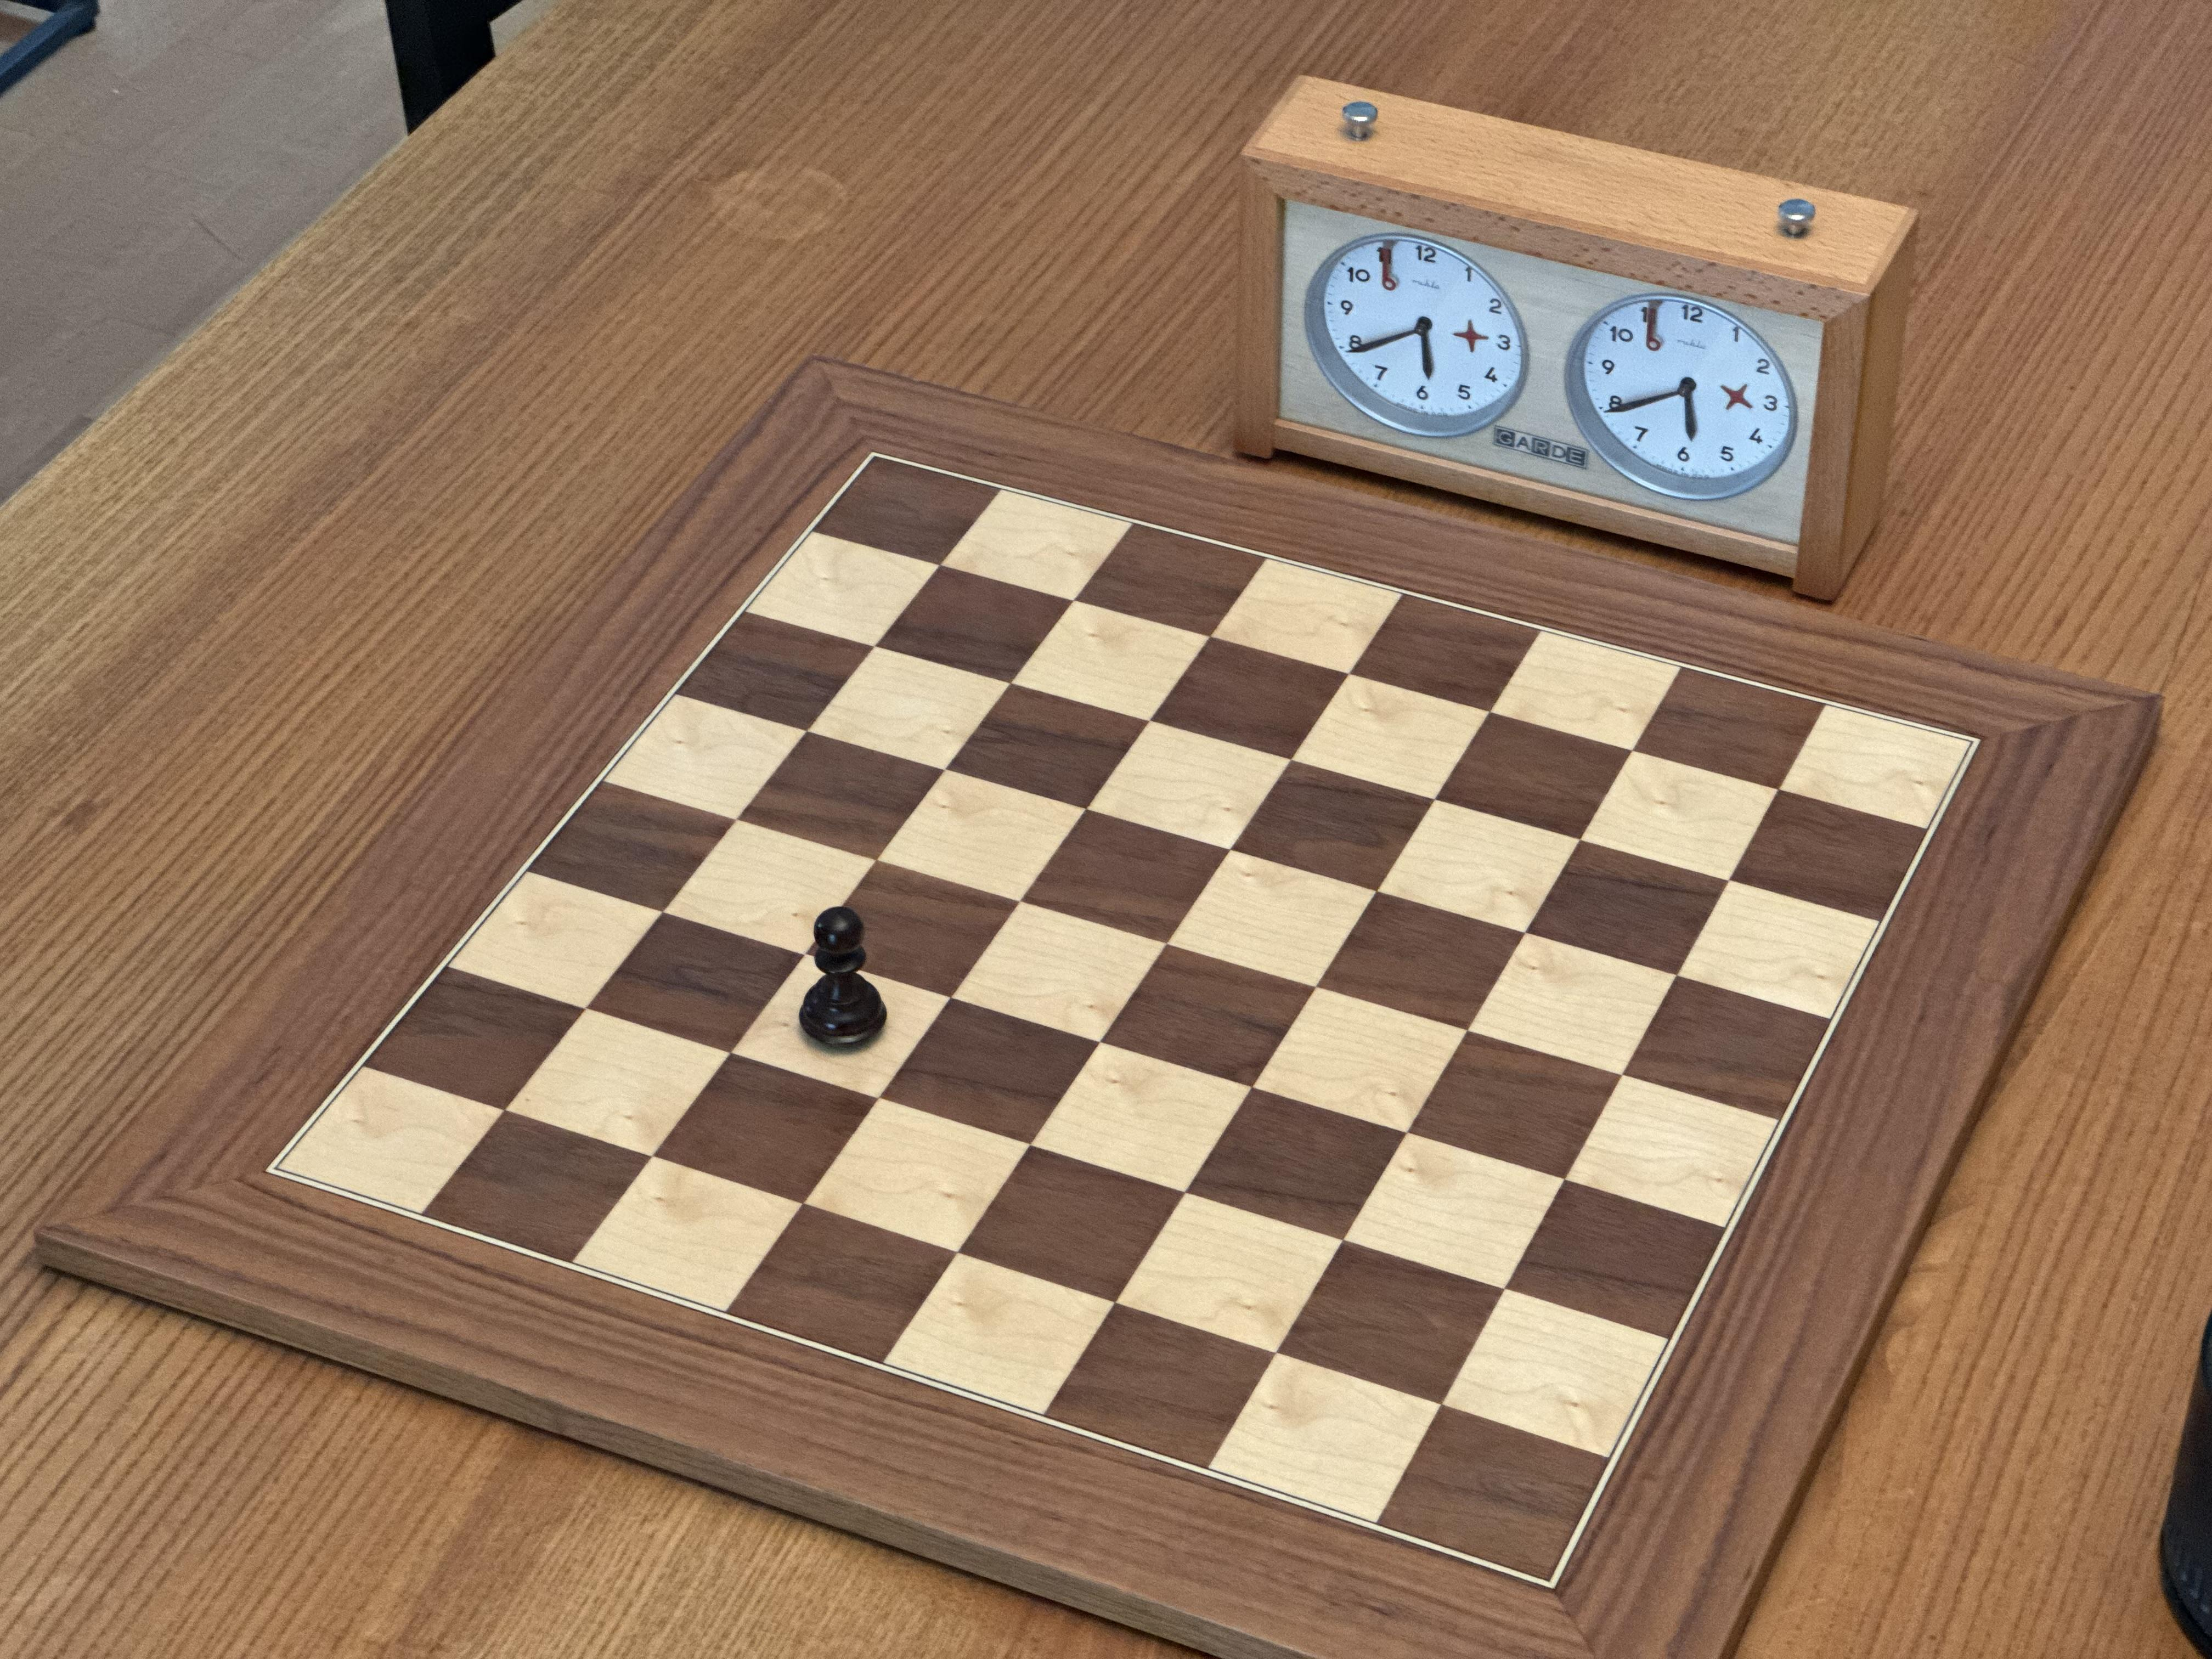Black Pawn: (795, 905, 890, 1057)
